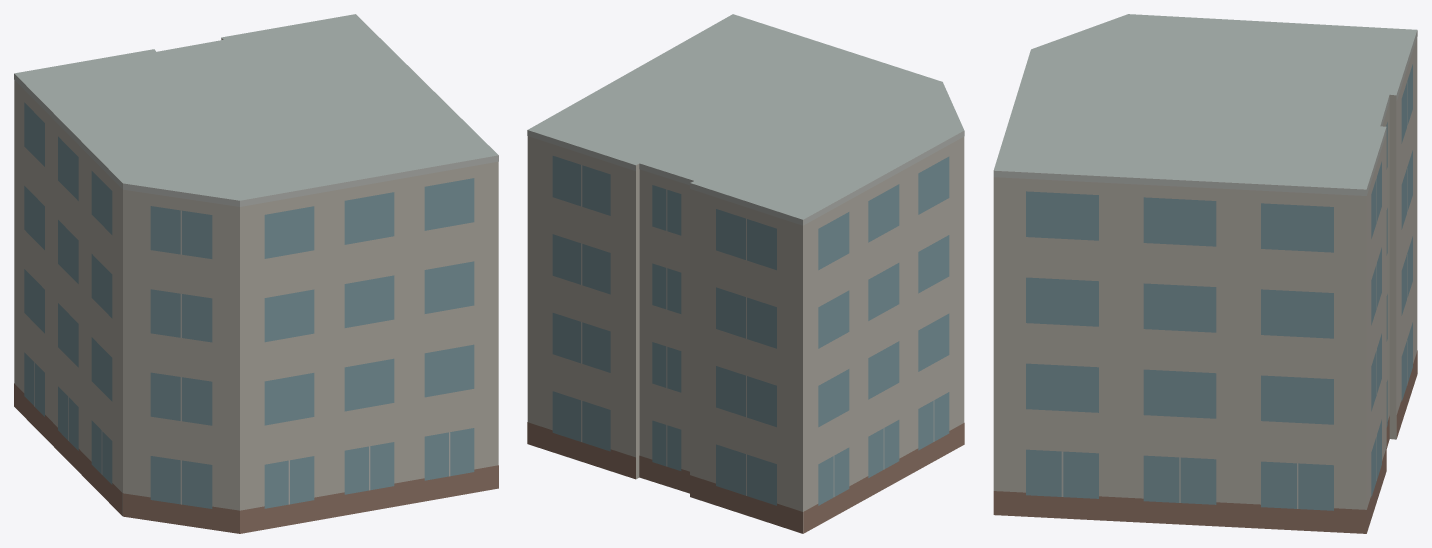
Rendered from survey-upis-32806469.glb.
3 renders of one model, left to right at view 1: azimuth 30°, elevation 25°; view 2: azimuth 150°, elevation 25°; view 3: azimuth 270°, elevation 25°, orthographic. The views are drawn at different scales.
Parts seen in each view (by area): view 1: survey-upis-32806469.tmp; view 2: survey-upis-32806469.tmp; view 3: survey-upis-32806469.tmp.
Part boxes in pixels (box(x1,y1,x2,y2)): survey-upis-32806469.tmp: box(14, 14, 498, 533); survey-upis-32806469.tmp: box(527, 14, 964, 533); survey-upis-32806469.tmp: box(993, 14, 1417, 533).
Size of the model in its own units: 14.18 by 12.95 by 14.46.
